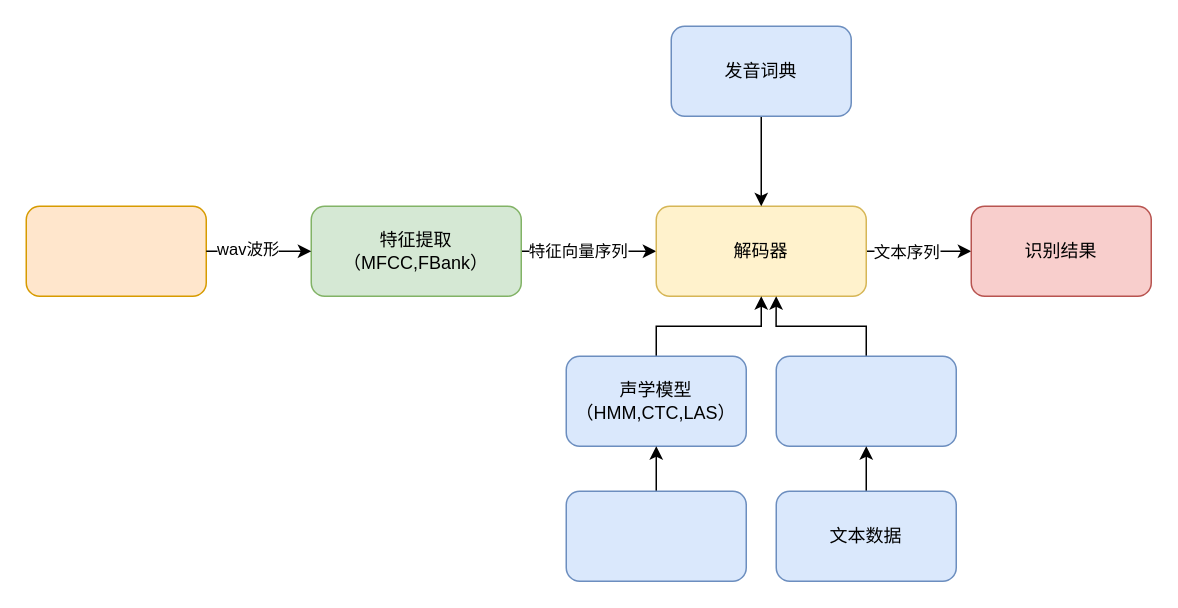
Some shapes in this 1178 by 608 pixel diagram are drawn without their labels. Each missing label, with the centre of its shape:
"语言模型 （LM）" belongs at point 865,400.
"语音信号" belongs at point 115,250.
"语音数据" belongs at point 655,535.
